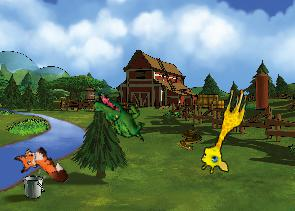crocodile: (86, 90, 154, 143)
fox: (10, 137, 71, 198)
giraffe: (197, 83, 250, 177)
